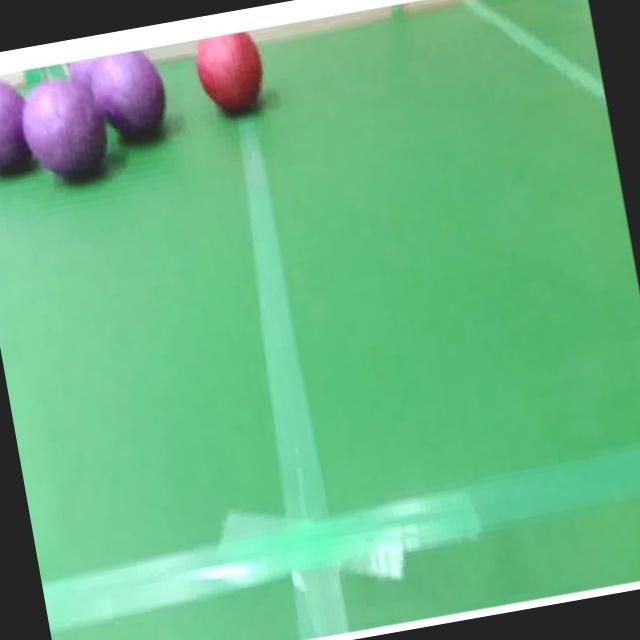purple_ball: (17, 74, 118, 190), (85, 46, 172, 142), (0, 75, 37, 183)
red_ball: (190, 32, 270, 122)
